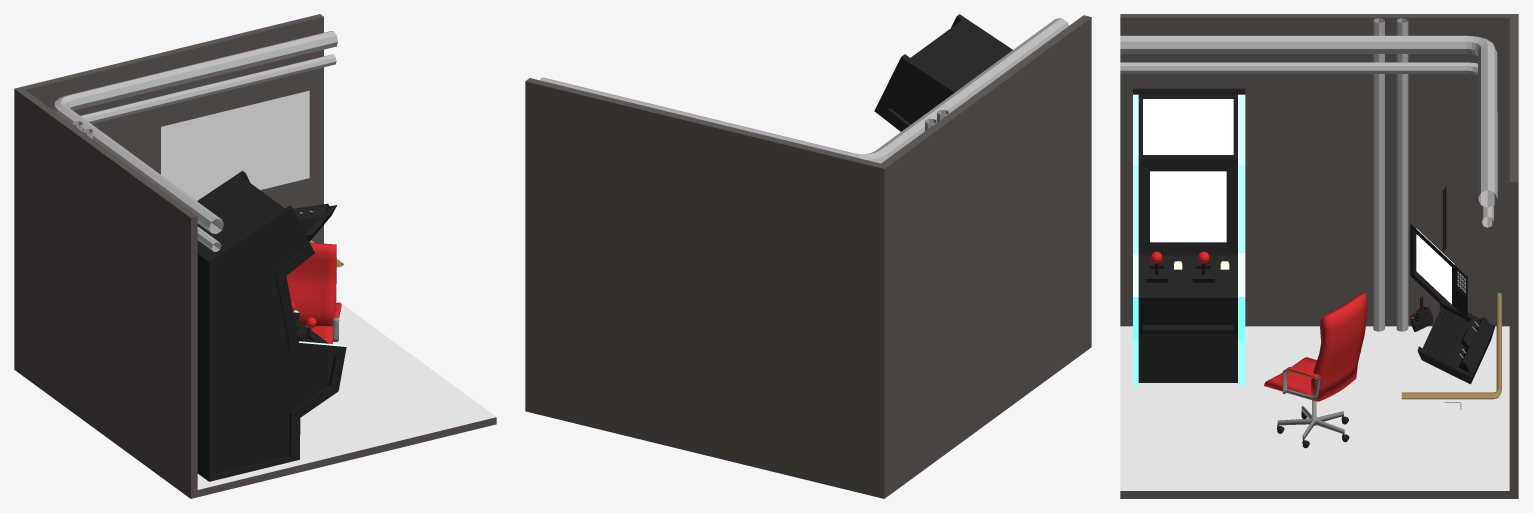
The model's file is arcade.glb.
3 views of the same model, side by side, from view 1: azimuth 30°, elevation 25°; view 2: azimuth 150°, elevation 25°; view 3: azimuth 270°, elevation 25° (orthographic). The views are drawn at different scales.
Visible parts, largest first — view 1: room, arcade, pexels-gamol-2386282, Plane.001, Seat, tubes, Plane.017; view 2: room, arcade, Plane.001; view 3: room, arcade, Plane.001, Plane.003, Seat, tubes, Plane.013, Plane.017, Plane.019, table, Base, Plane.012 (+3 smaller).
Boxes of the visible parts, x1,y1,x2,y2 form: room: (14,14,496,498); arcade: (197,170,346,481); pexels-gamol-2386282: (161,90,309,200); Plane.001: (52,31,337,233); Seat: (286,243,341,343); tubes: (80,54,336,251); Plane.017: (293,203,337,241); room: (525,15,1091,498); arcade: (874,14,1012,131); Plane.001: (540,18,1068,163); room: (1120,14,1518,498); arcade: (1133,88,1245,385); Plane.001: (1120,35,1497,207); Plane.003: (1373,18,1408,331); Seat: (1264,292,1367,401); tubes: (1120,62,1493,227); Plane.013: (1410,224,1455,307); Plane.017: (1417,299,1495,384); Plane.019: (1423,306,1470,362); table: (1401,292,1501,399); Base: (1277,400,1344,439); Plane.012: (1455,266,1467,322).
Size of what is drawn, in the model's own units: 8.18 by 7.18 by 8.18.
